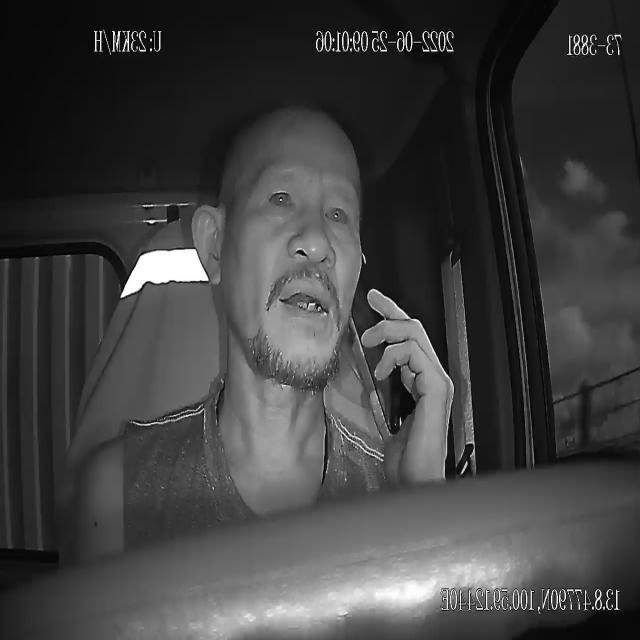phone: (350, 264, 402, 438)
